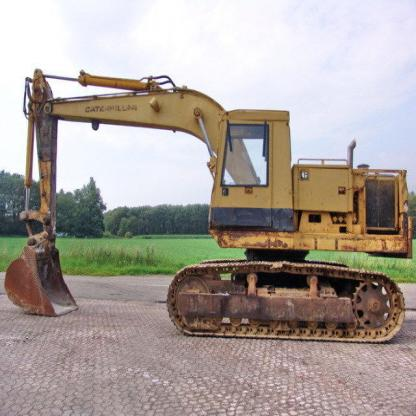excavator: (5, 46, 414, 367)
